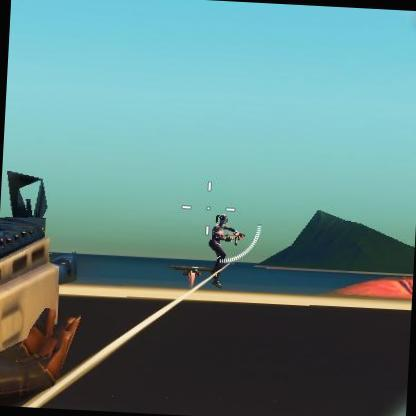person: (207, 212, 246, 270)
